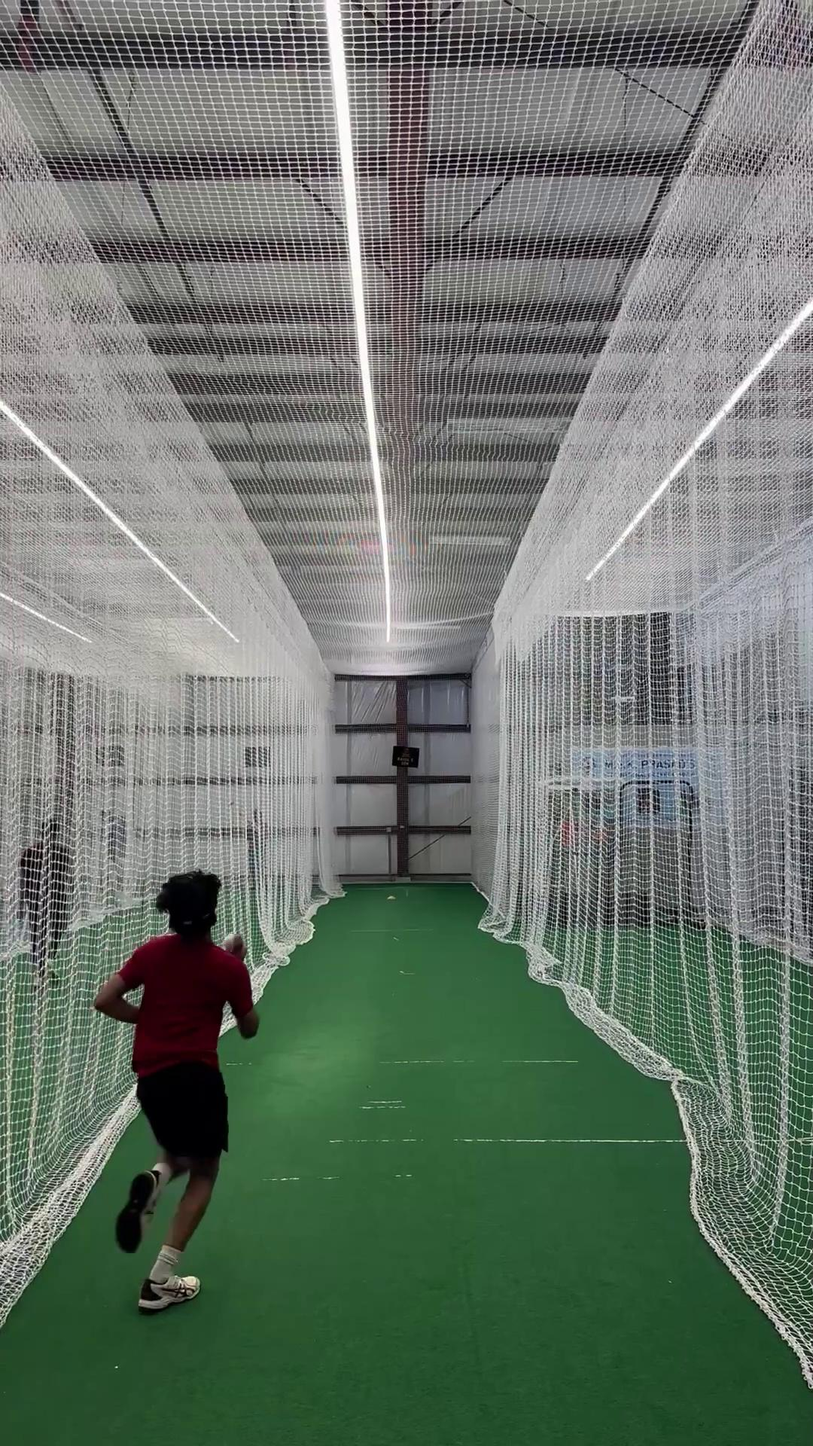ball: (217, 928, 245, 956)
